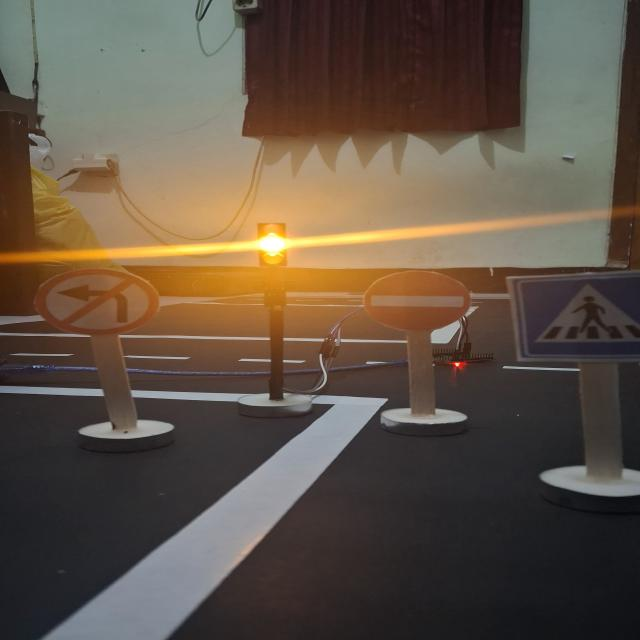Dilarang Belok Kiri: (35, 270, 162, 336)
Dilarang Masuk: (364, 271, 472, 332)
Lampu Kuning: (253, 222, 290, 268)
Rambu Penyebrangan: (512, 273, 640, 361)
